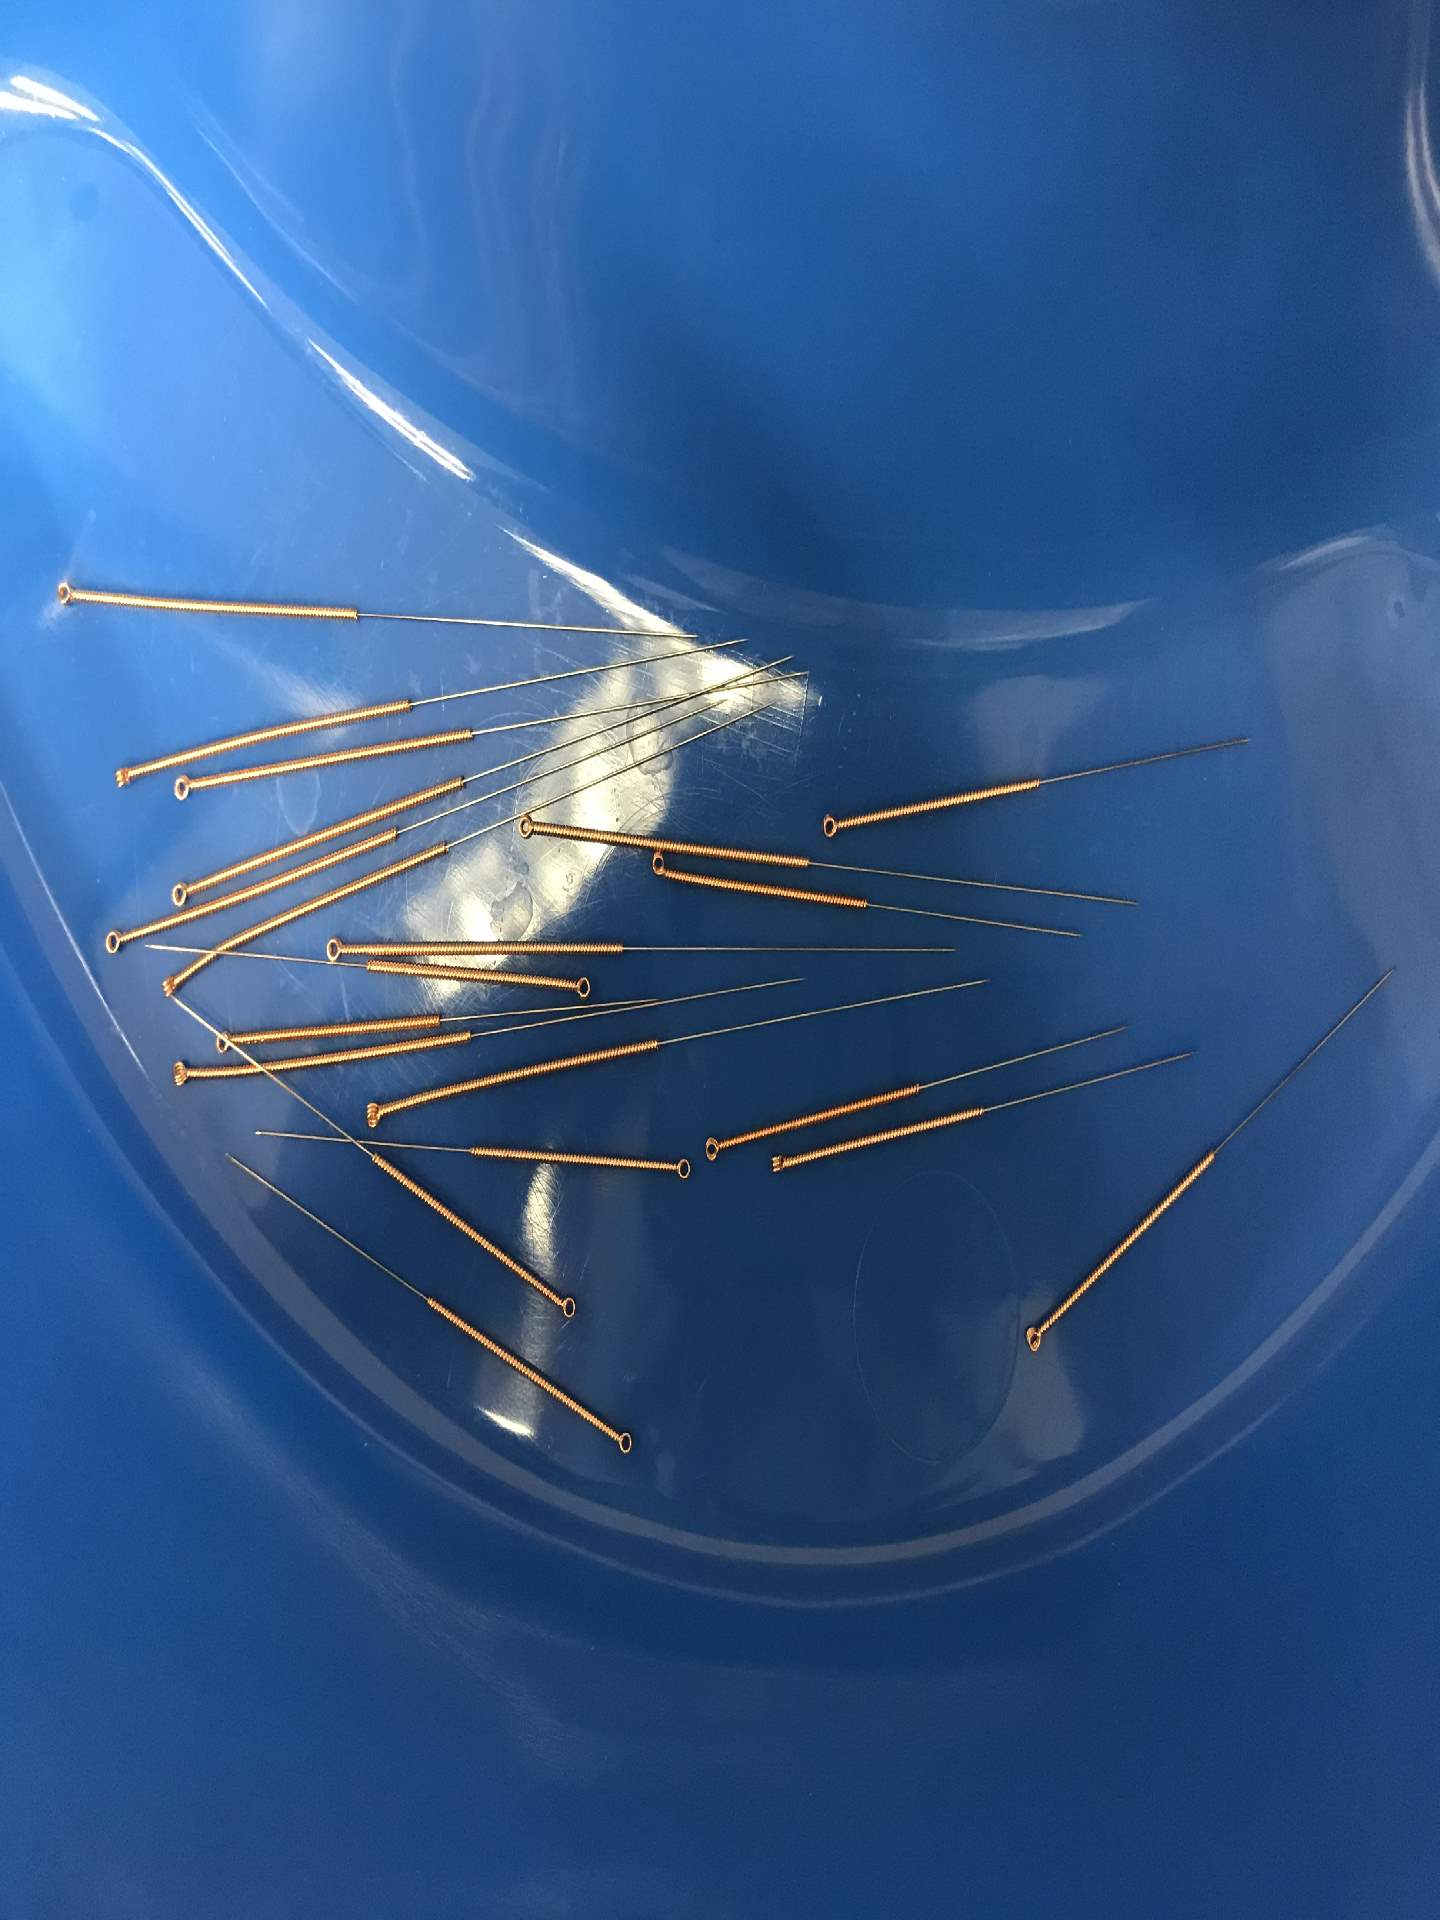needle: (542, 1281, 584, 1326), (756, 1144, 802, 1185), (1015, 1314, 1054, 1361), (601, 1420, 641, 1460), (150, 965, 191, 1005), (160, 872, 203, 912), (354, 1092, 393, 1132), (165, 770, 207, 807), (48, 574, 88, 614), (659, 1149, 697, 1190), (318, 927, 354, 968), (97, 921, 133, 962), (694, 1128, 732, 1166), (558, 969, 599, 1004), (163, 1054, 200, 1092), (103, 757, 141, 794), (814, 806, 849, 845), (638, 851, 678, 884), (207, 1023, 244, 1058), (511, 809, 545, 847)
